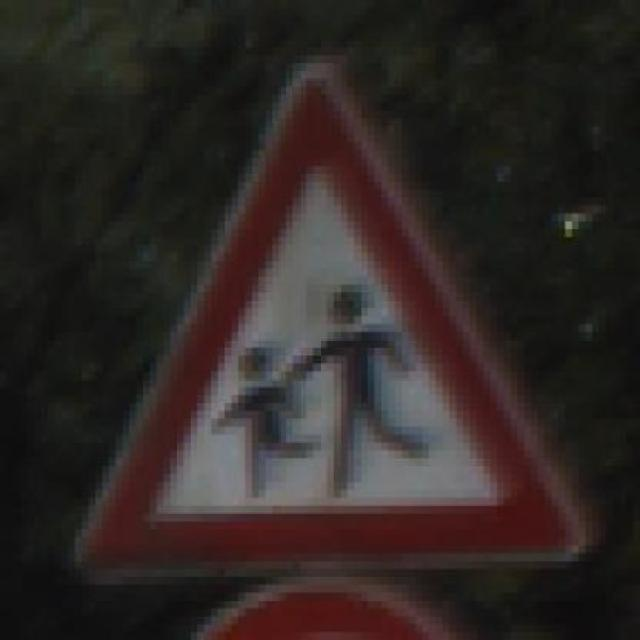Beware of children: (62, 46, 592, 592)
